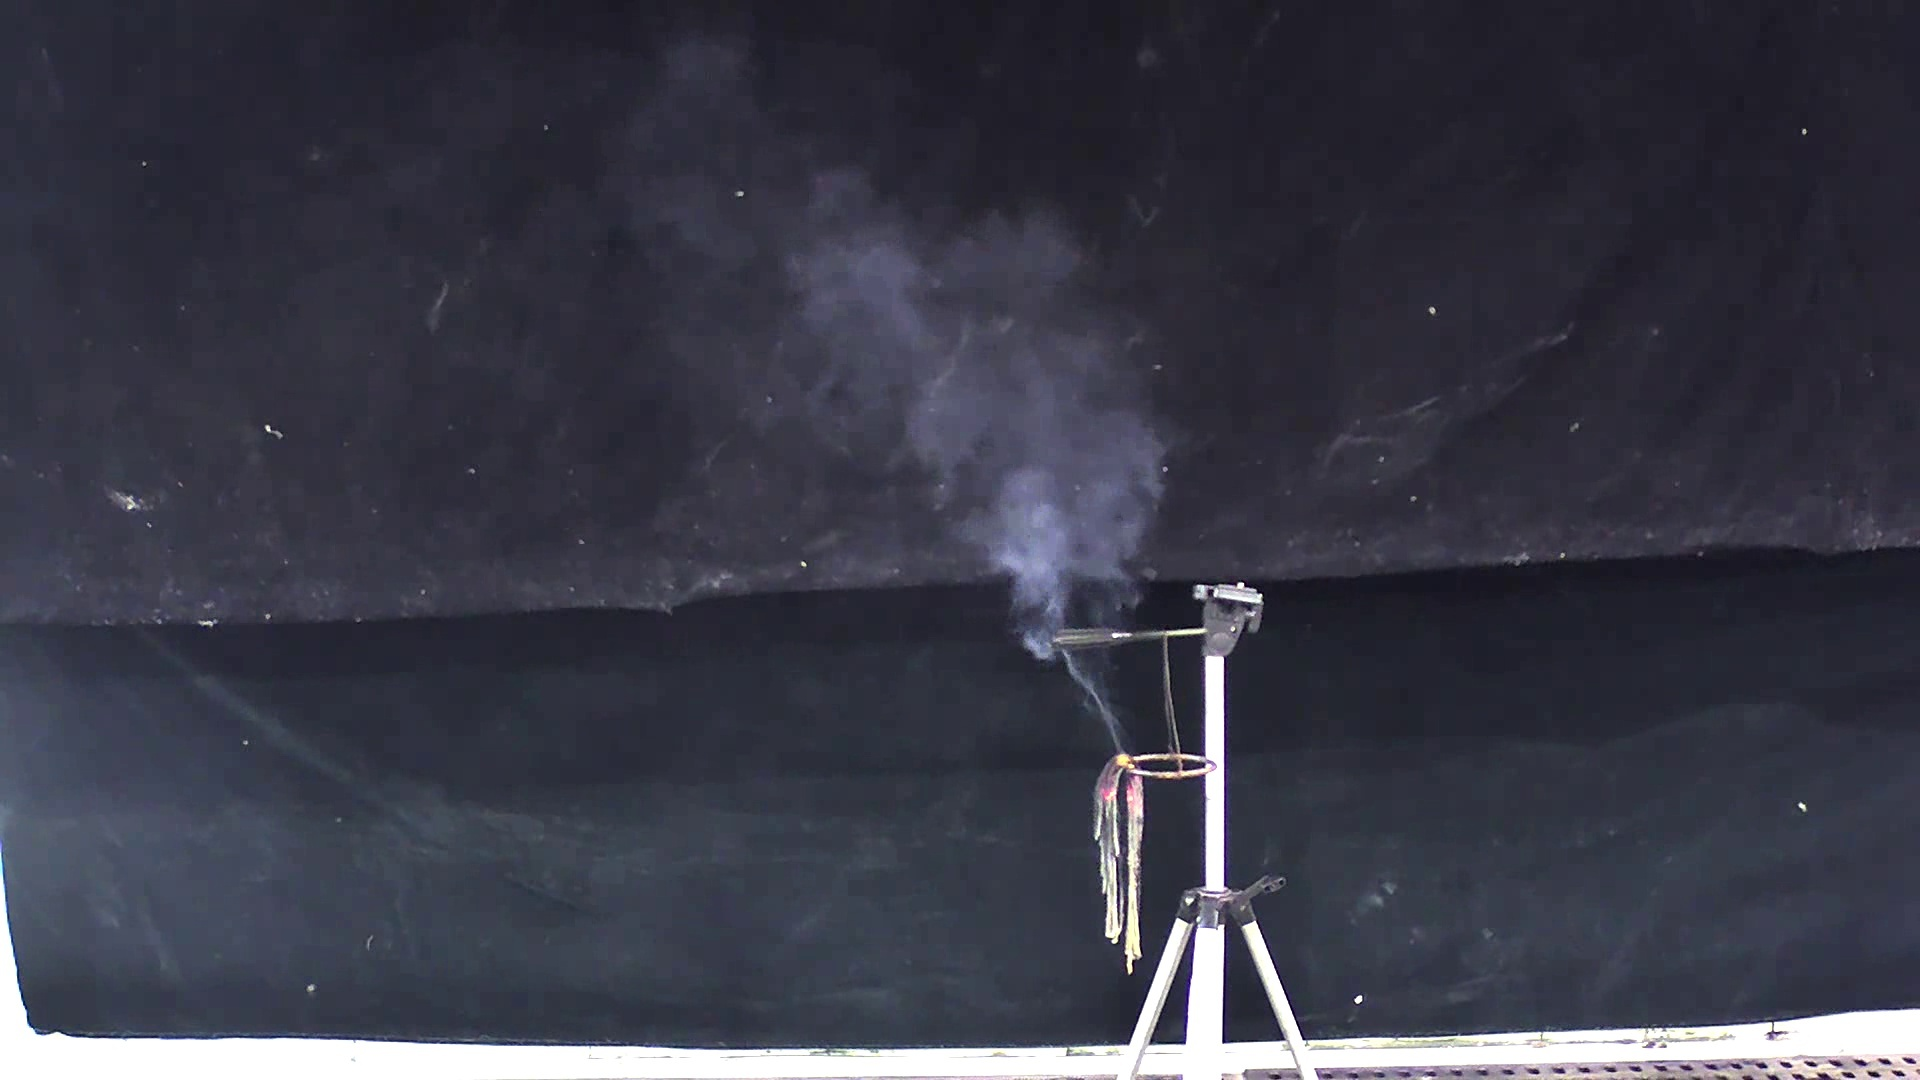smoke: (748, 146, 1175, 756)
